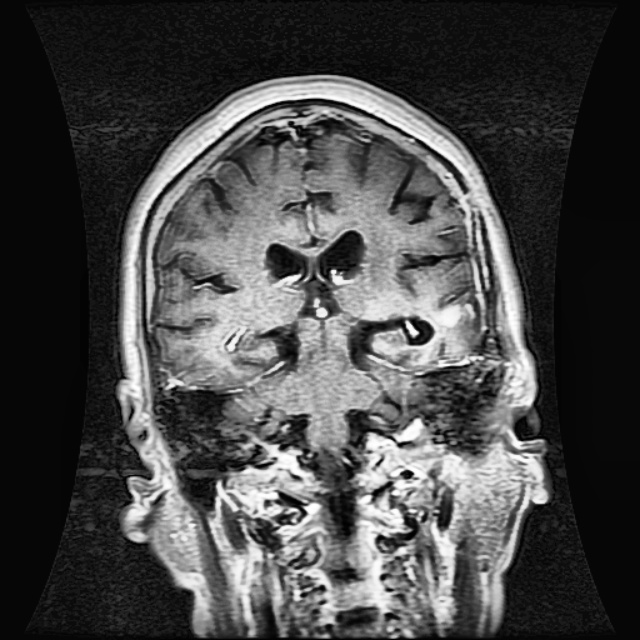Meningioma: (439, 290, 480, 325)
